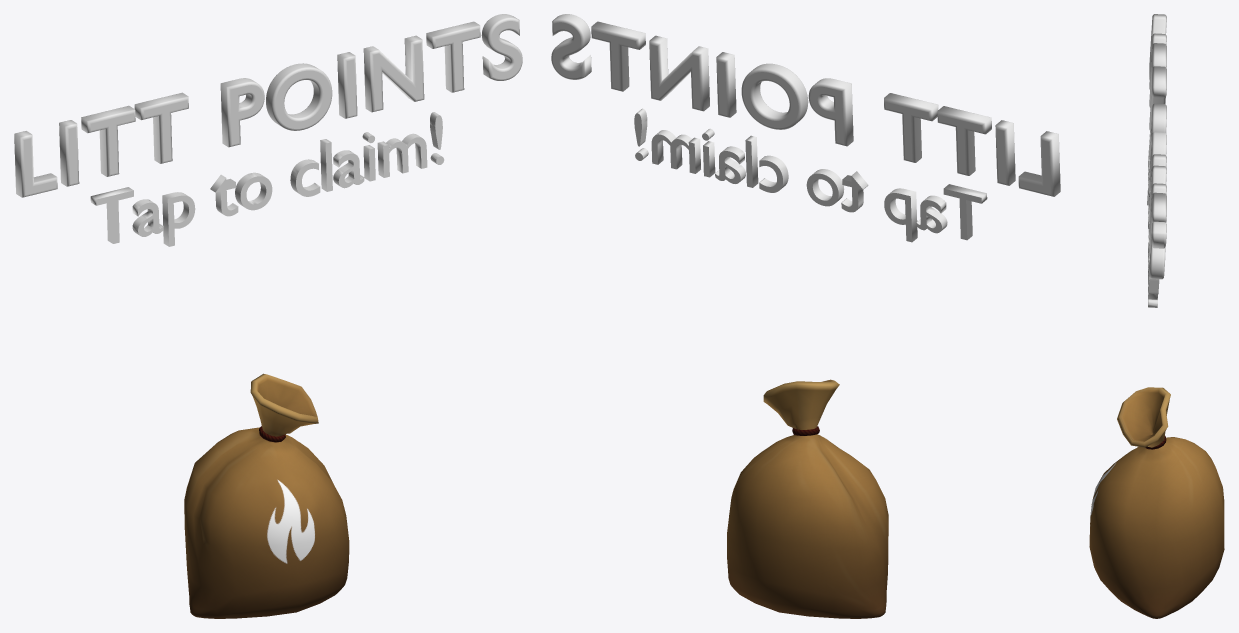
File: moneybag_1.gltf
The picture shows the model from 3 angles, left to right: view 1: azimuth 30°, elevation 25°; view 2: azimuth 150°, elevation 25°; view 3: azimuth 270°, elevation 25°; orthographic projection. The views are drawn at different scales.
Visible parts, largest first — view 1: MoneyBag, Text, Text.001; view 2: MoneyBag, Text, Text.001; view 3: MoneyBag, Text, Text.001.
Part boxes in pixels (left/top/right/bottom): MoneyBag: left=184, top=373, right=349, bottom=618; Text: left=14, top=14, right=522, bottom=197; Text.001: left=90, top=112, right=444, bottom=246; MoneyBag: left=727, top=379, right=888, bottom=618; Text: left=551, top=14, right=1060, bottom=196; Text.001: left=634, top=108, right=987, bottom=242; MoneyBag: left=1089, top=387, right=1224, bottom=618; Text: left=1149, top=14, right=1166, bottom=279; Text.001: left=1147, top=131, right=1159, bottom=307.
Size of the model in its own units: 1.06 by 1.06 by 0.2775.
1 material, 1 textured.
